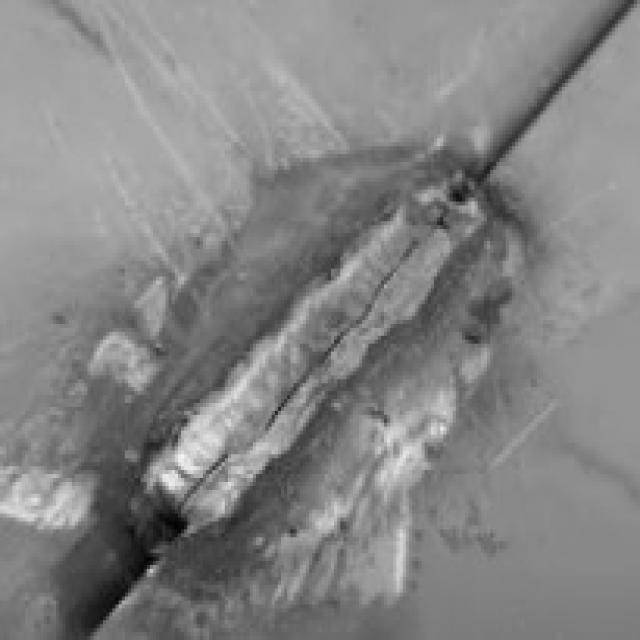Bad Welding: (124, 134, 493, 553)
Crack: (324, 232, 422, 368), (172, 446, 232, 509), (259, 364, 315, 426)
